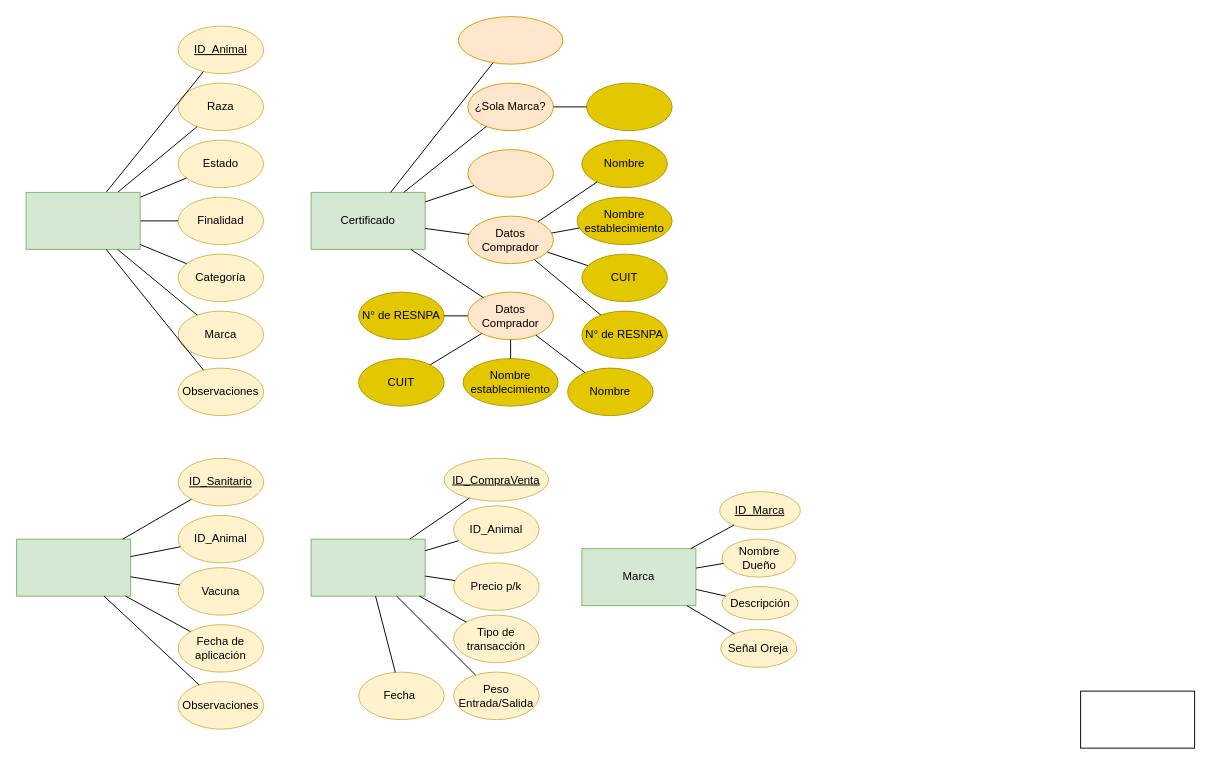
Image size: 1211x765. Some labels were removed from this diagram. Here are the shapes that lost their labels. From the top down, the box of each, then its label:
(457, 16, 563, 64): ID_NumCertificado
(586, 82, 672, 131): Cantidad de marcas
(467, 149, 553, 197): Fecha de C - V
(25, 191, 140, 249): Animal
(16, 538, 131, 596): Parte Sanitaria
(310, 538, 425, 596): Compra-Venta
(1080, 690, 1195, 748): Usuario
